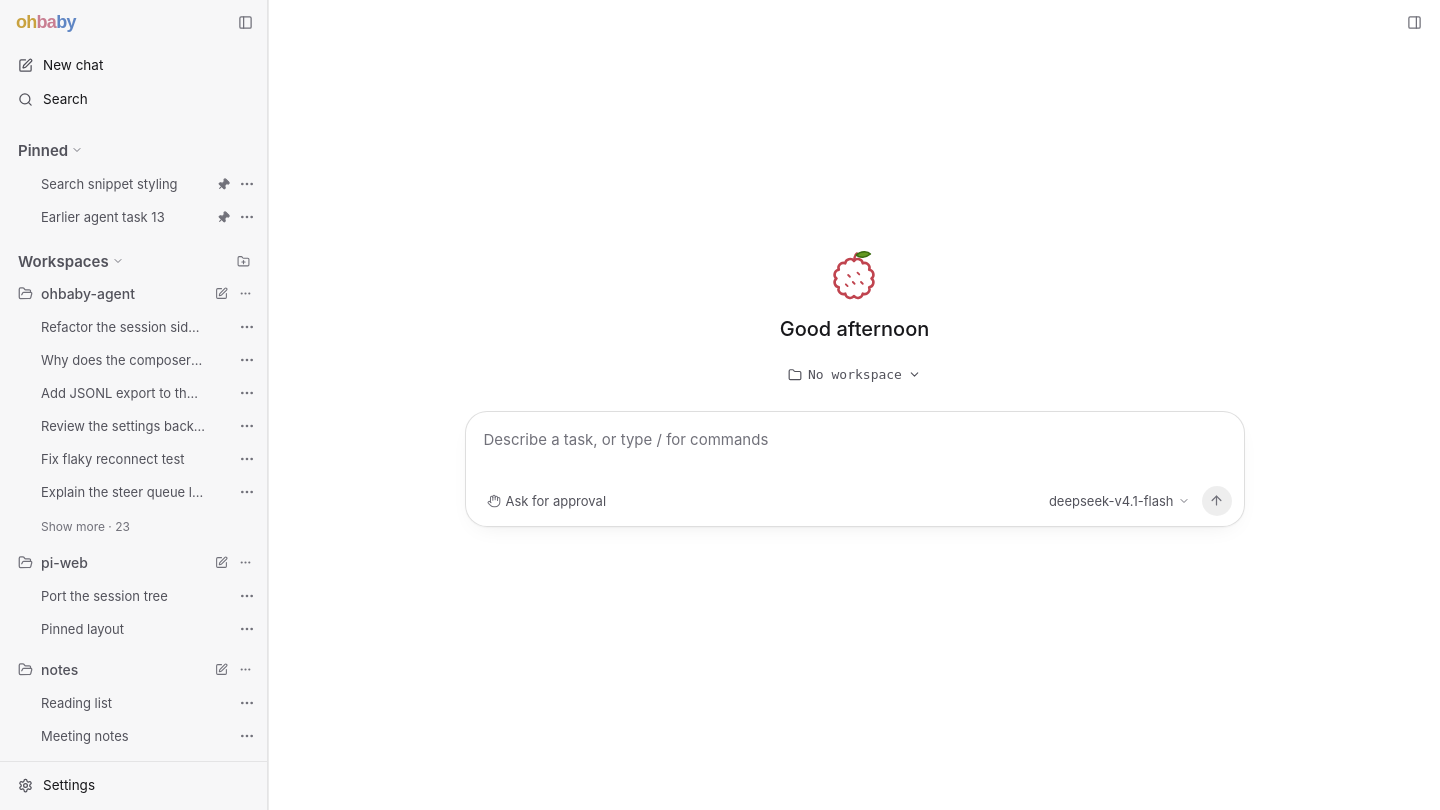
Test: improve-3 sidebar actions › keeps the row and reports the backend reason when moving fails
Click the button named "Actions for Refactor the session sidebar" at (247, 327), box 235,315 -> 259,339
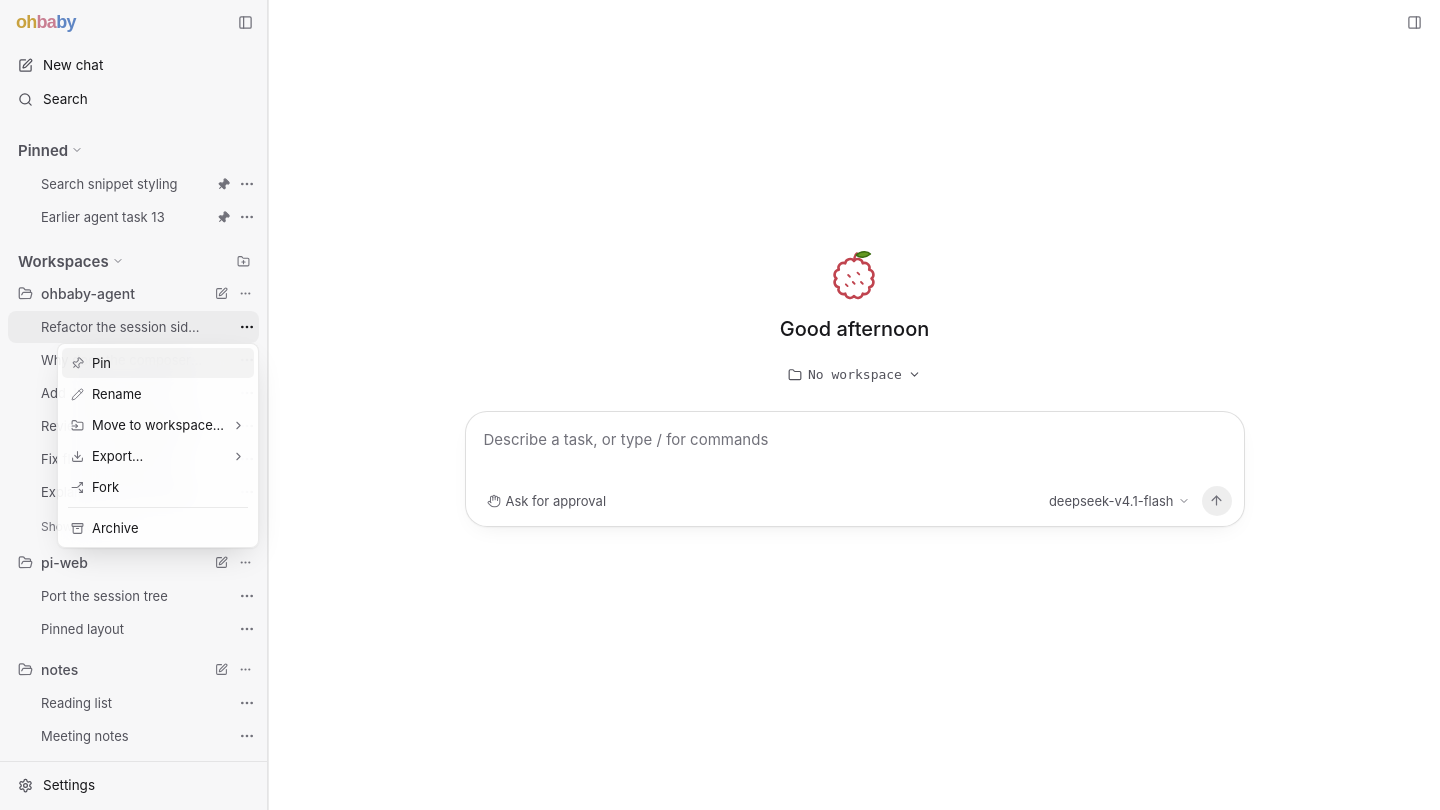
Click the menu item "Move to workspace…" at (158, 425), box 62,410 -> 254,440
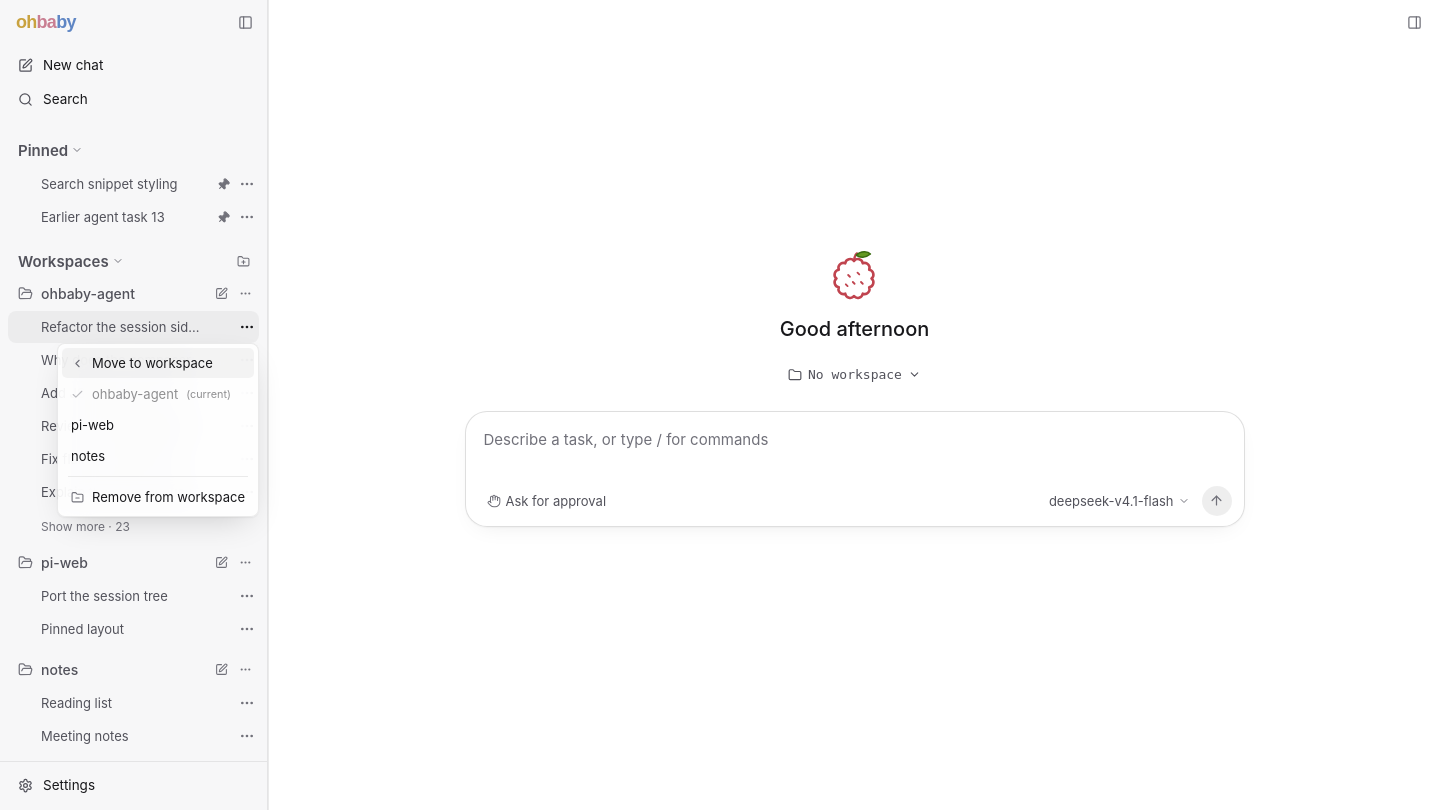
Click the menu item titled "/Users/demo/Projects/pi-web" at (158, 425), box 62,410 -> 254,440
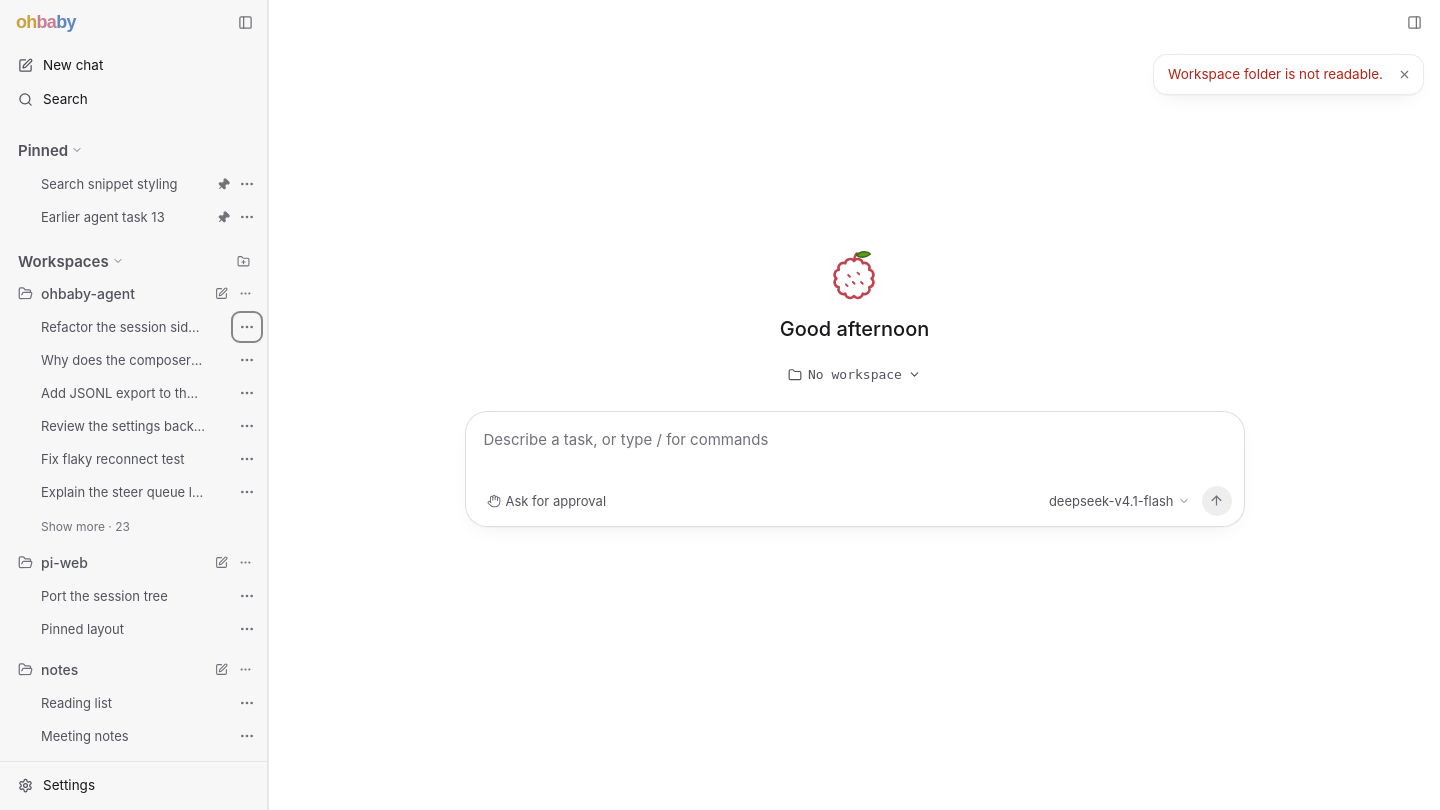
Expected: the element that starts with "ohbaby-agent" is shown, 8,277 -> 209,309
Expected: the text "Workspace folder is not readable." is shown, 1168,64 -> 1383,85
